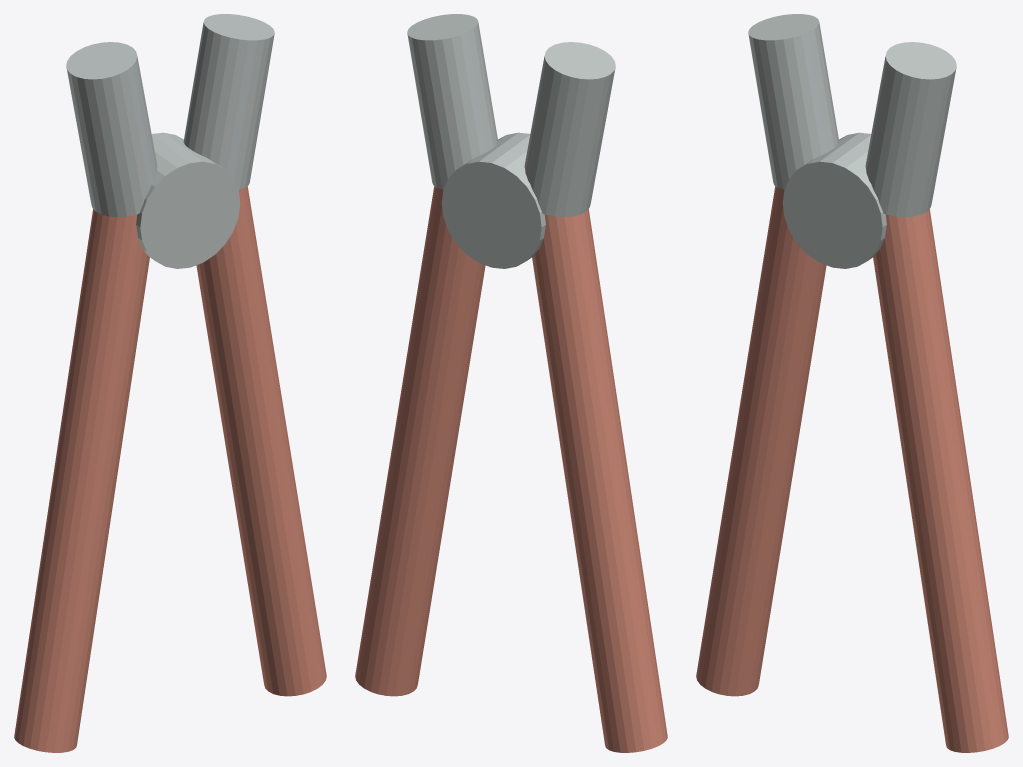
The picture shows the model from 3 angles, left to right: view 1: azimuth 30°, elevation 25°; view 2: azimuth 150°, elevation 25°; view 3: azimuth 330°, elevation 25°; orthographic projection.
Visible parts, largest first — view 1: rubber handle, rubber handle.001, steel jaw, steel jaw.001, pivot; view 2: rubber handle, rubber handle.001, steel jaw, steel jaw.001, pivot; view 3: rubber handle.001, rubber handle, steel jaw.001, steel jaw, pivot.
Boxes of the visible parts, x1,y1,x2,y2 form: rubber handle: [14, 209, 149, 752]; rubber handle.001: [196, 186, 326, 696]; steel jaw: [66, 42, 157, 217]; steel jaw.001: [183, 14, 274, 189]; pivot: [136, 132, 240, 268]; rubber handle: [532, 209, 667, 752]; rubber handle.001: [355, 186, 485, 696]; steel jaw: [524, 42, 615, 217]; steel jaw.001: [407, 14, 498, 189]; pivot: [441, 132, 545, 268]; rubber handle.001: [873, 209, 1008, 752]; rubber handle: [696, 186, 826, 696]; steel jaw.001: [865, 42, 956, 217]; steel jaw: [748, 14, 839, 189]; pivot: [782, 132, 886, 268].
Size of the model in its own units: 0.2434 by 0.518 by 0.055.
